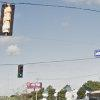Traffic light: (11, 61, 35, 83)
